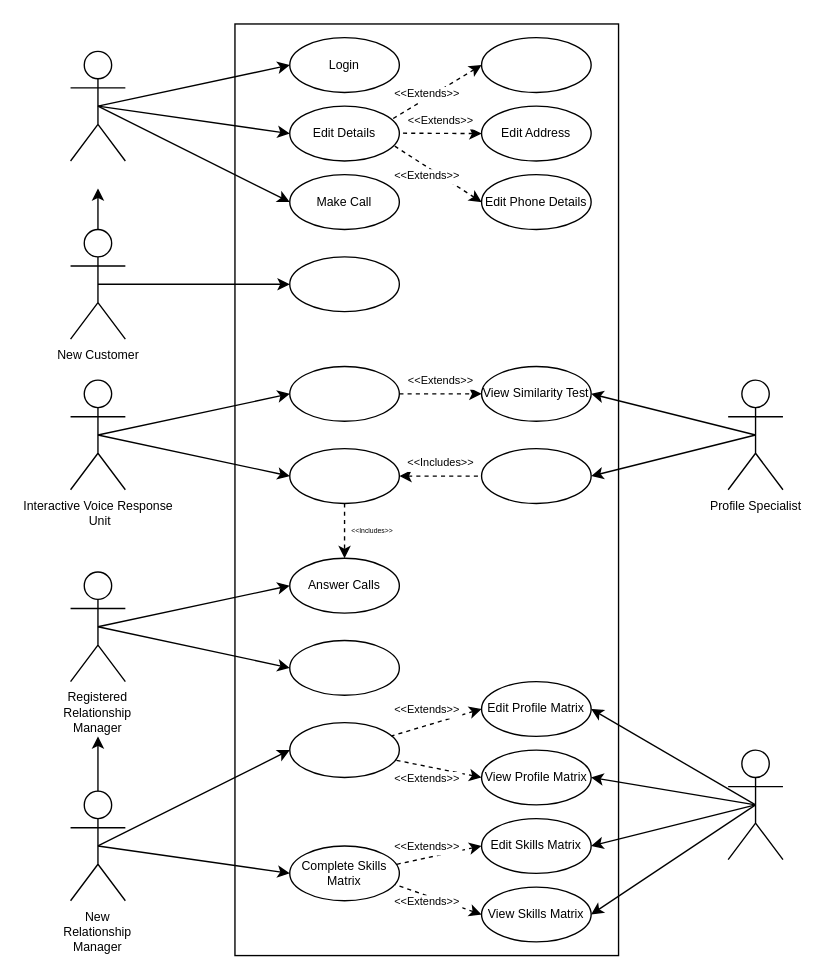
This 825x980 diagram has some shape labels left out. The shapes that lost their labels are listed below. From the top down, each one's centre as x and y in pixels, then its label:
At (x=535, y=64): "Edit Profile Details".
At (x=97, y=105): "Registered Customer".
At (x=343, y=284): "Register".
At (x=343, y=393): "Similarity Test".
At (x=343, y=475): "Receive in-bound calls".
At (x=535, y=475): "Reroute Calls".
At (x=343, y=667): "Make Out-bound Calls".
At (x=343, y=749): "Complete Profile Matrix".
At (x=755, y=804): "CMC Company Manager".
